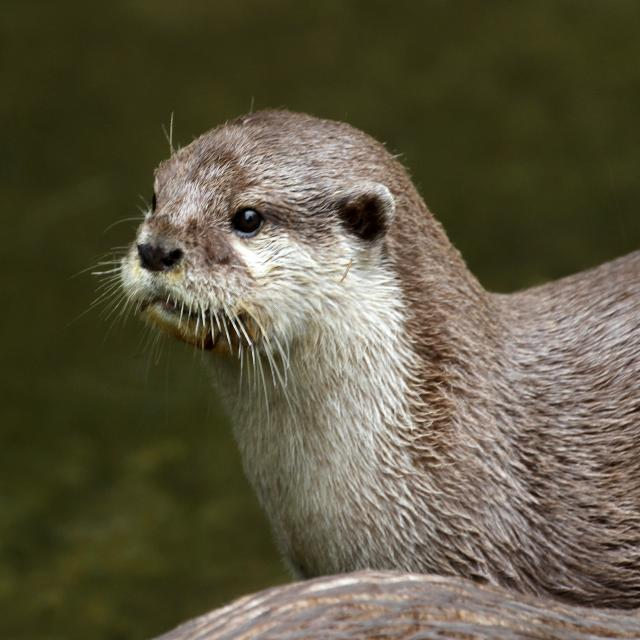otter: (126, 110, 640, 597)
